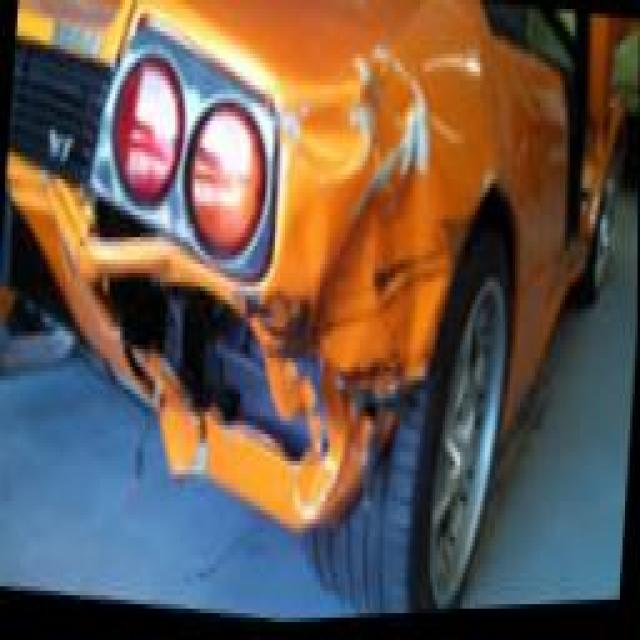Bumper: (67, 48, 451, 531)
